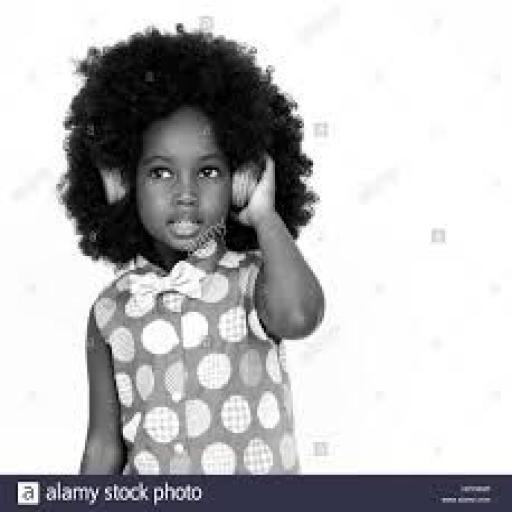listening_to_music: (58, 23, 329, 477)
